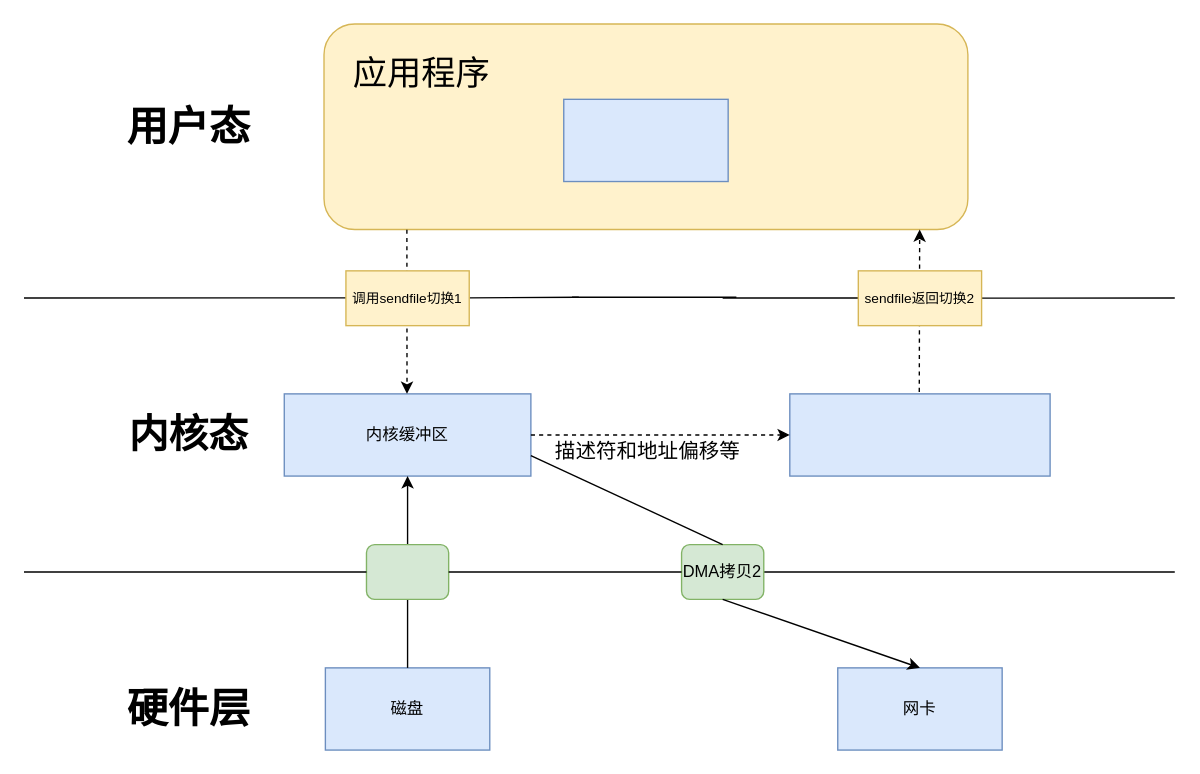
Some shapes in this 1200 by 774 pixel diagram are drawn without their labels. Each missing label, with the centre of its shape:
"DMA拷贝1" belongs at (407,571).
"socket缓冲区" belongs at (919,434).
"用户缓冲区" belongs at (645,140).
